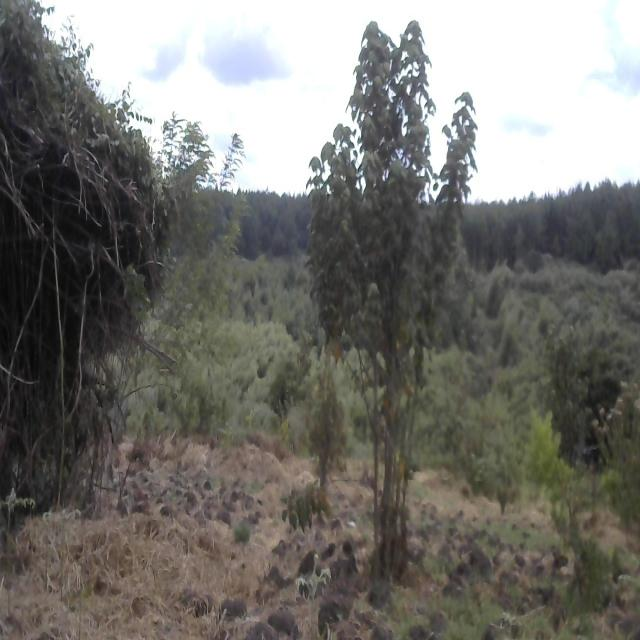other: (304, 0, 479, 601)
